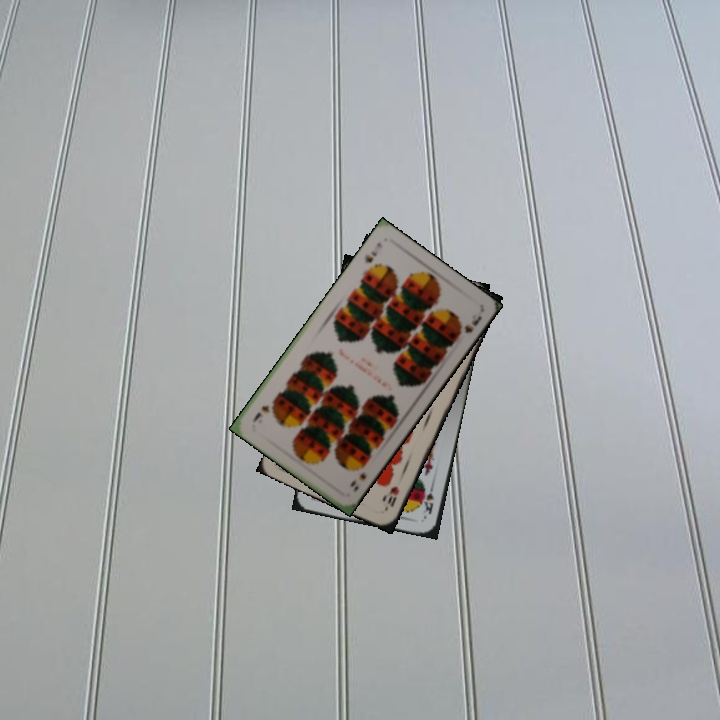H10: (383, 482, 402, 509)
S9: (360, 238, 385, 266), (346, 467, 369, 495)
SK: (419, 480, 437, 517)
